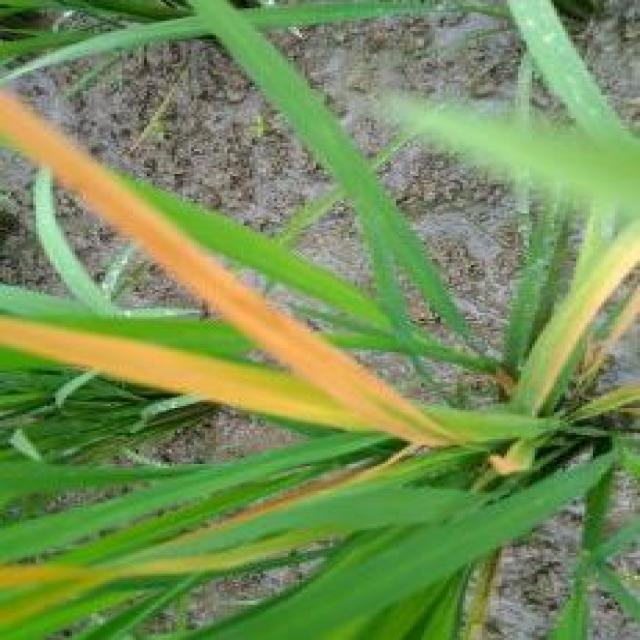Tungro: (2, 86, 444, 451)
